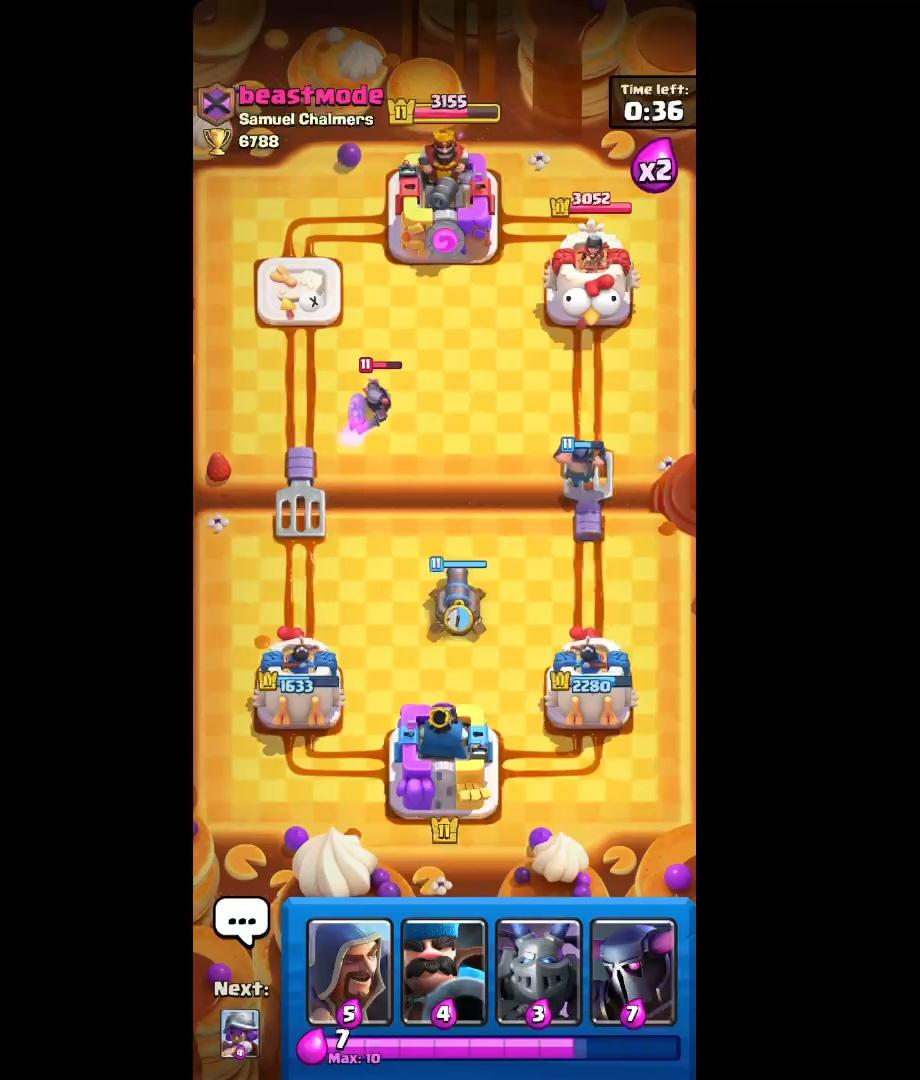Mini Pekka: (342, 349, 426, 443)
